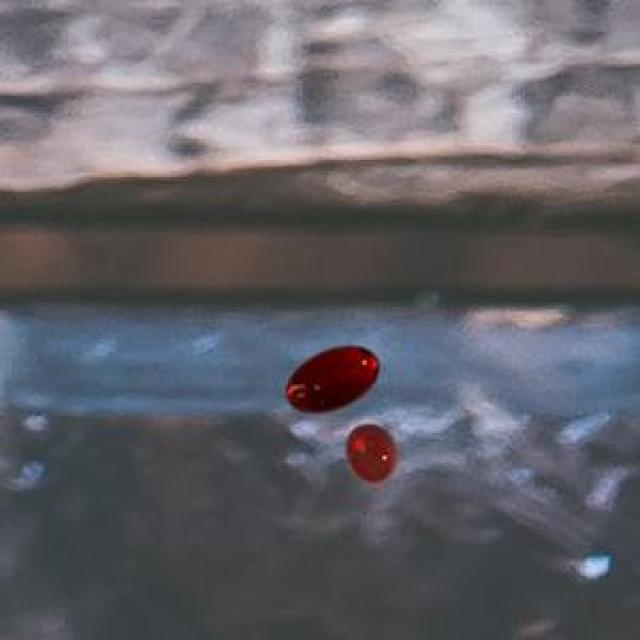Medicol: (275, 338, 391, 418), (336, 421, 405, 490)
